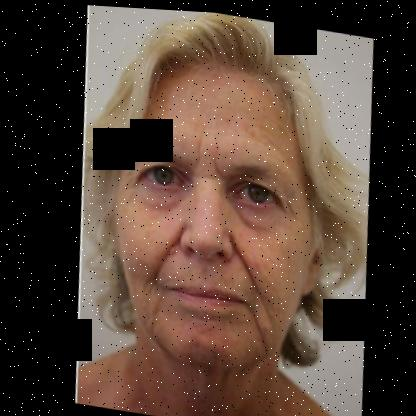Female: (87, 42, 344, 378)
